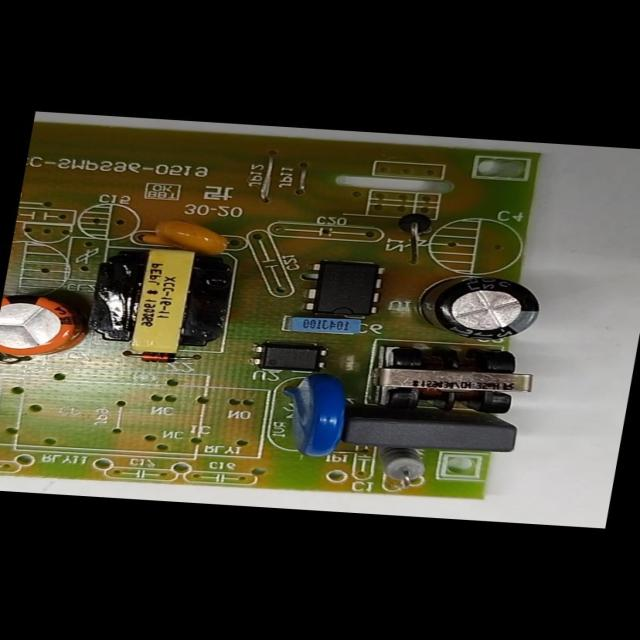Cap1: (0, 293, 94, 361)
Cap3: (411, 275, 541, 342)
MOSFET: (304, 262, 385, 316)
Mov: (274, 375, 354, 459)
Resistor: (368, 445, 429, 488)
Transformer: (84, 243, 240, 358), (373, 345, 534, 416)
